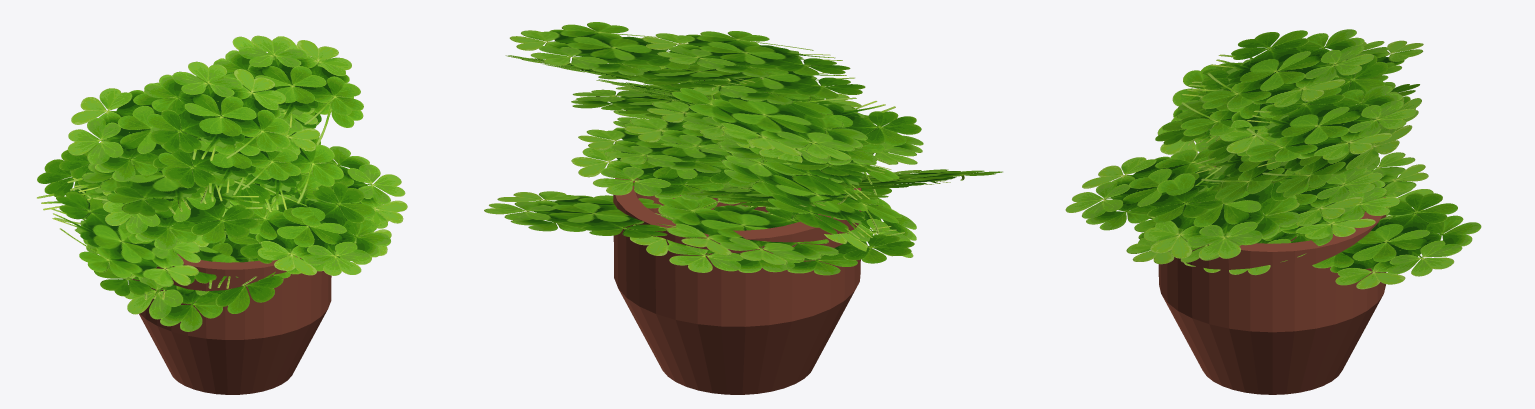
The model's file is FlowerPot.fbx.
The picture shows the model from 3 angles, left to right: view 1: azimuth 30°, elevation 25°; view 2: azimuth 150°, elevation 25°; view 3: azimuth 270°, elevation 25°; orthographic projection. The views are drawn at different scales.
Parts seen in each view (by area): view 1: IvyLeaf, Cone; view 2: IvyLeaf, Cone; view 3: IvyLeaf, Cone.
Part boxes in pixels (x1,y1,x2,y2): IvyLeaf: [37, 35, 407, 331]; Cone: [132, 254, 331, 394]; IvyLeaf: [484, 22, 1002, 275]; Cone: [613, 178, 861, 394]; IvyLeaf: [1065, 29, 1481, 289]; Cone: [1158, 166, 1386, 394].
Size of the model in its own units: 5.26 by 3.91 by 5.2.
